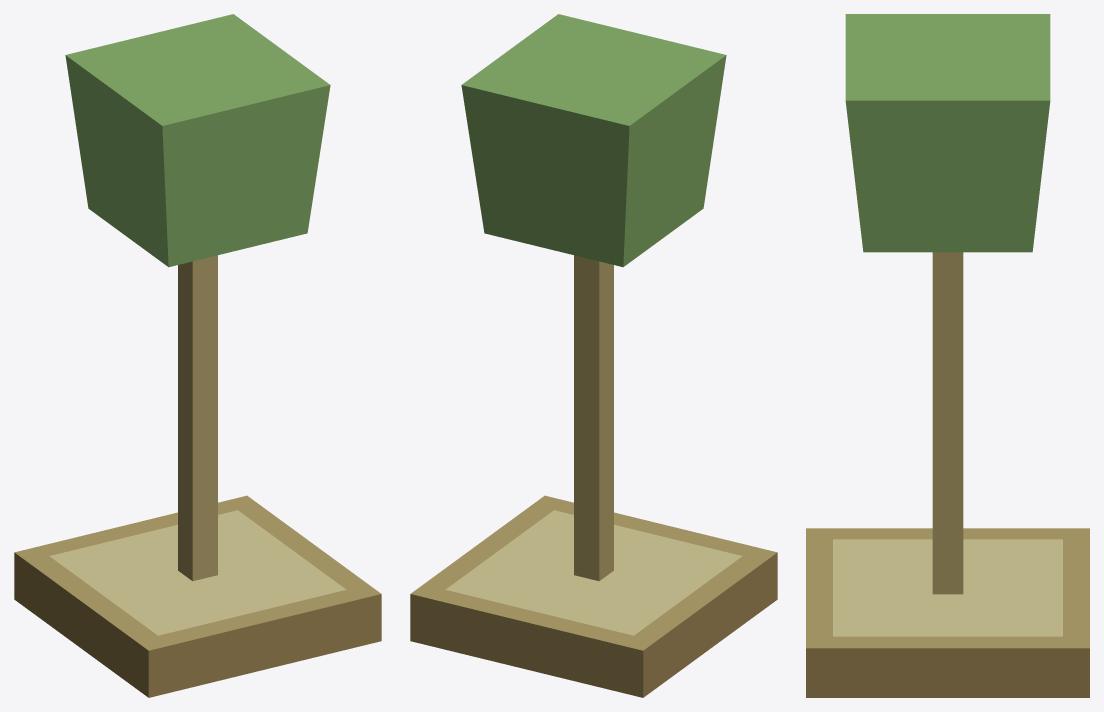
File: vegetation_005.fbx
3 views of the same model, side by side, from view 1: azimuth 30°, elevation 25°; view 2: azimuth 150°, elevation 25°; view 3: azimuth 270°, elevation 25° (orthographic). The views are drawn at different scales.
Visible parts, largest first — view 1: vegetation_005; view 2: vegetation_005; view 3: vegetation_005.
Boxes of the visible parts, x1,y1,x2,y2 form: vegetation_005: (14, 14, 381, 697); vegetation_005: (410, 14, 777, 697); vegetation_005: (806, 14, 1089, 697).
Size of the model in its own units: 106 by 238 by 106.
